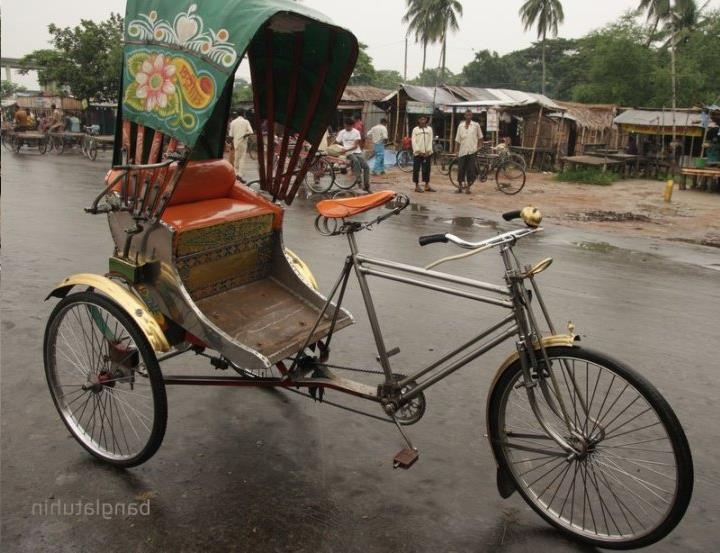Rickshaw: (42, 2, 683, 479)
